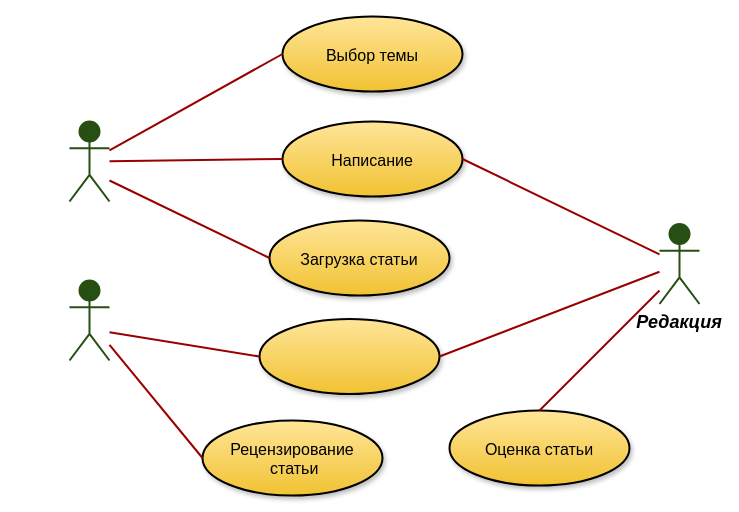
This 739x512 diagram has some shape labels left out. Here are the shapes that lost their labels. From the top down, the centre of each, then its label:
At pixel 89 161: "Исследователь".
At pixel 89 320: "Рецензент".
At pixel 350 358: "Запрос списка статей".
